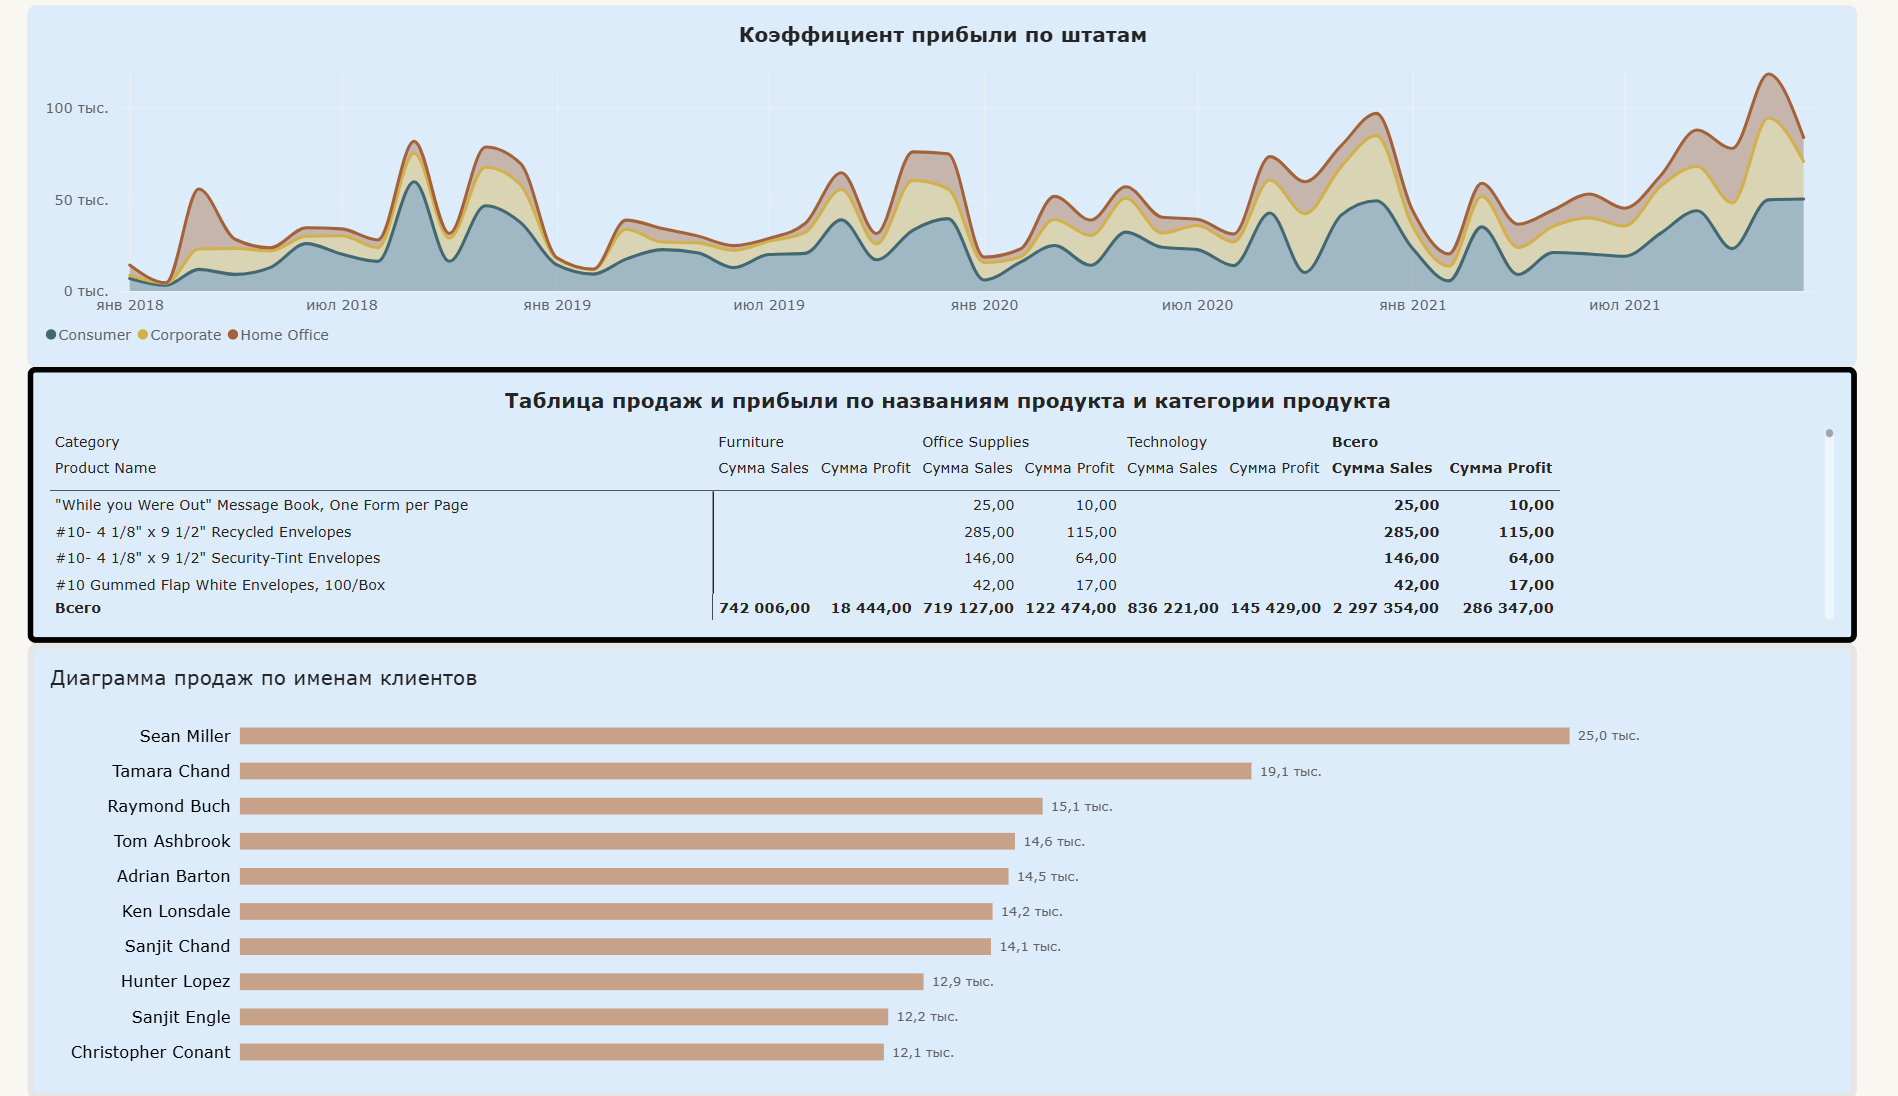

Layout of this report page (visuals, bound fields, positions):
{"tool":"powerbi","page":{"name":"Страница 2","canvas":[1920,1080],"ordinal":1},"visuals":[{"type":"pivotTable","title":"Таблица продаж и прибыли по названиям продукта и категории продукта","fields":{"Rows":["Sample - Superstore_Orders.Product Name"],"Values":["Sum(Sample - Superstore_Orders.Sales)","Sum(Sample - Superstore_Orders.Profit)"],"Columns":["Sample - Superstore_Orders.Category"]},"box":[80.3,364.9,1786.6,269.6],"z":0},{"type":"barChart","title":"Диаграмма продаж по именам клиентов","fields":{"Y":["Sum(Sample - Superstore_Orders.Sales)"],"Category":["Sample - Superstore_Orders.Customer Name"]},"box":[80.3,634.6,1786.6,445.3],"z":1000},{"type":"stackedAreaChart","title":"Коэффициент прибыли по штатам","fields":{"Category":["Sample - Superstore_Orders.Order Date.Изменение.Иерархия дат.Год","Sample - Superstore_Orders.Order Date.Изменение.Иерархия дат.Месяц"],"Y":["Sum(Sample - Superstore_Orders.Sales)"],"Series":["Sample - Superstore_Orders.Segment"]},"box":[80.3,12.3,1786.6,352.7],"z":2000}]}

Visuals, with their boxes in screenshot pixels (x1, y1, x2, y2), scaled from the page's 1920x1080 canvas onto the 1898x1096 screenshot:
"Таблица продаж и прибыли по названиям продукта и категории продукта" pivotTable: left=79, top=370, right=1846, bottom=644
"Диаграмма продаж по именам клиентов" barChart: left=79, top=644, right=1846, bottom=1095
"Коэффициент прибыли по штатам" stackedAreaChart: left=79, top=12, right=1846, bottom=370
